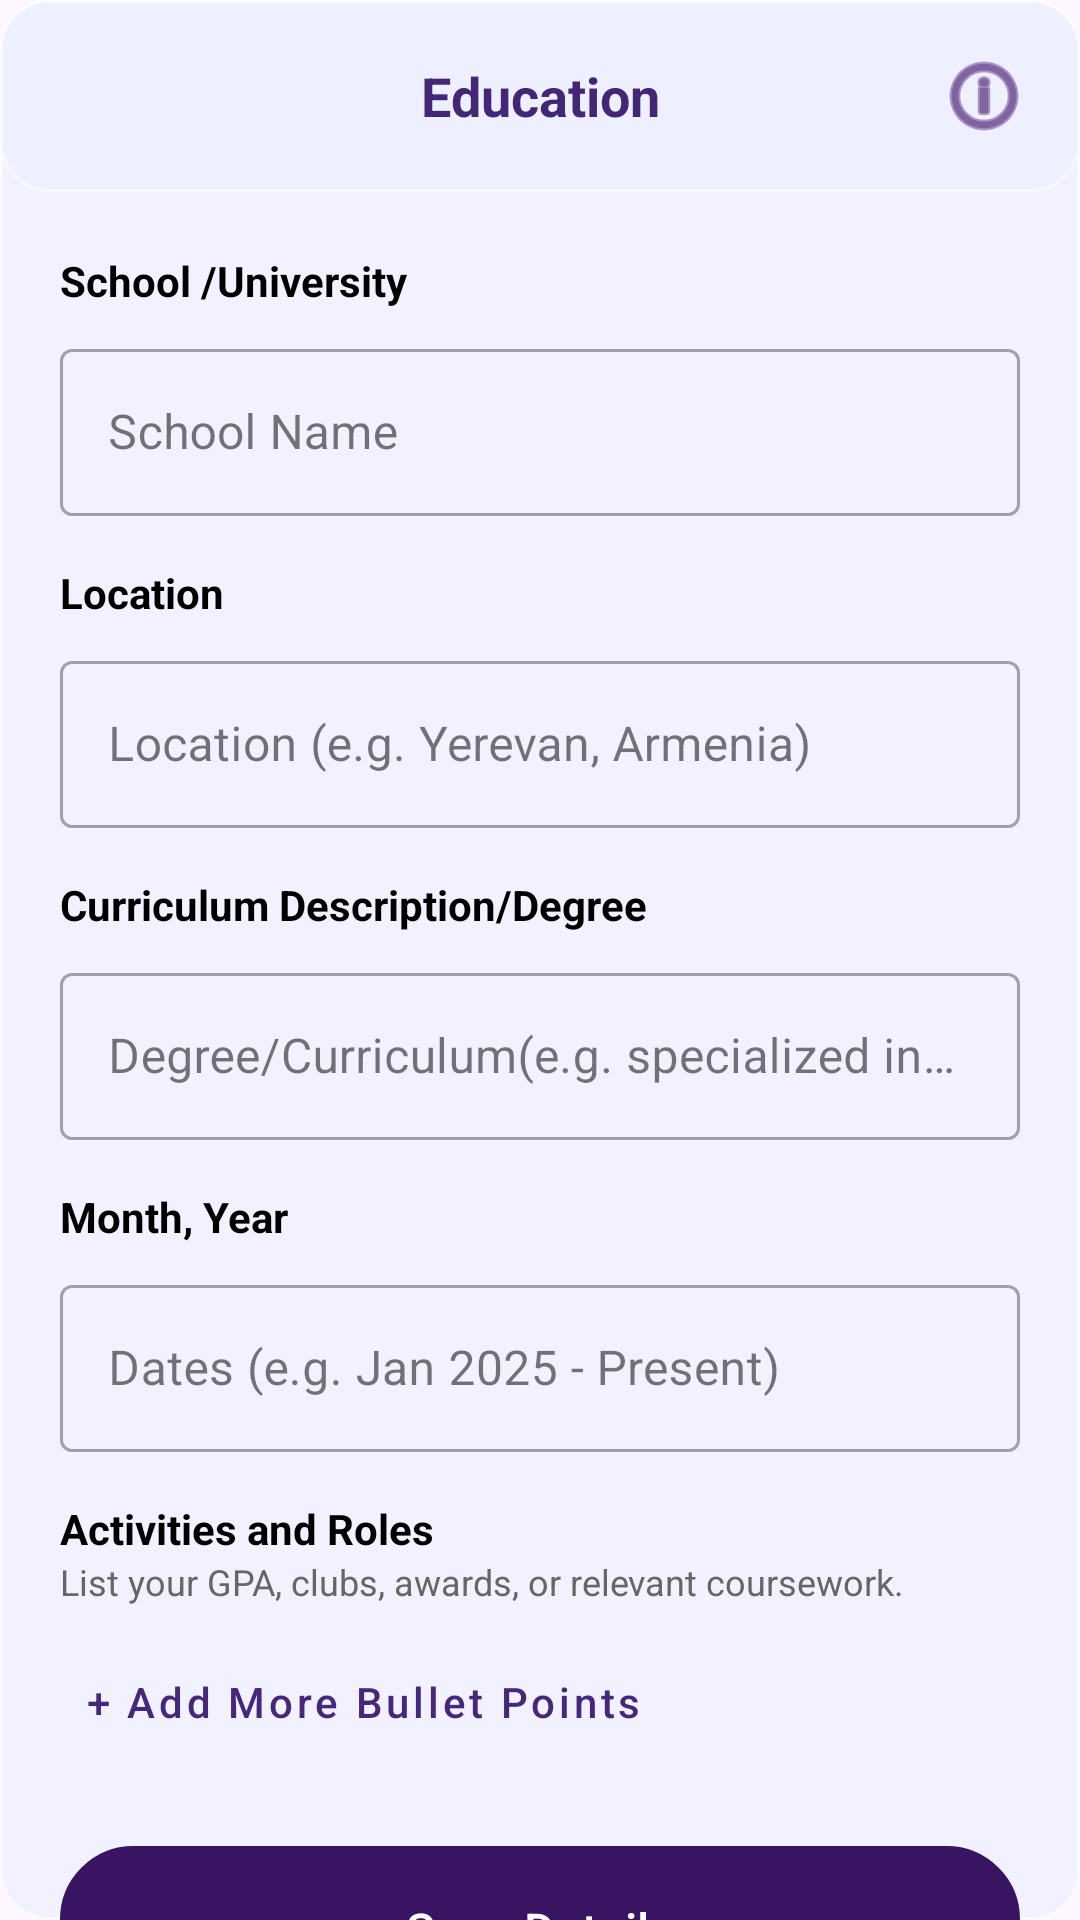

Icons on this 1080px×1920px Android screen, each with its box as {"left": x1, "top": y1, "right": x2, "bottom": y2}:
info details: {"left": 949, "top": 61, "right": 1019, "bottom": 131}
